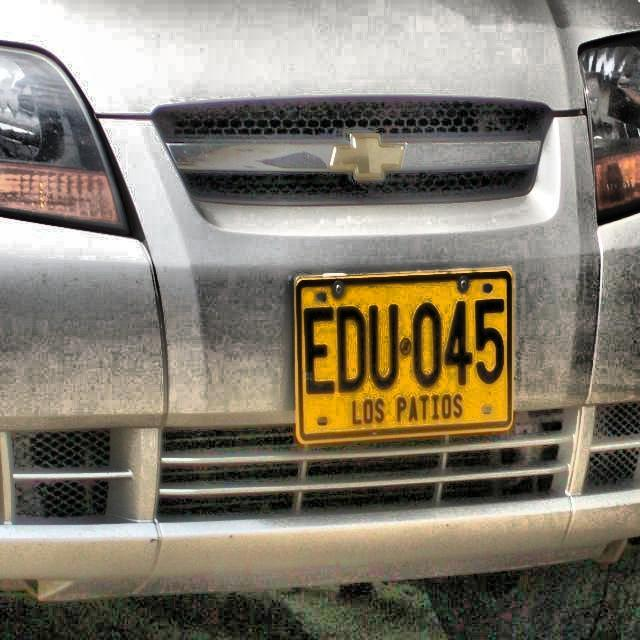plate: (292, 267, 515, 444)
